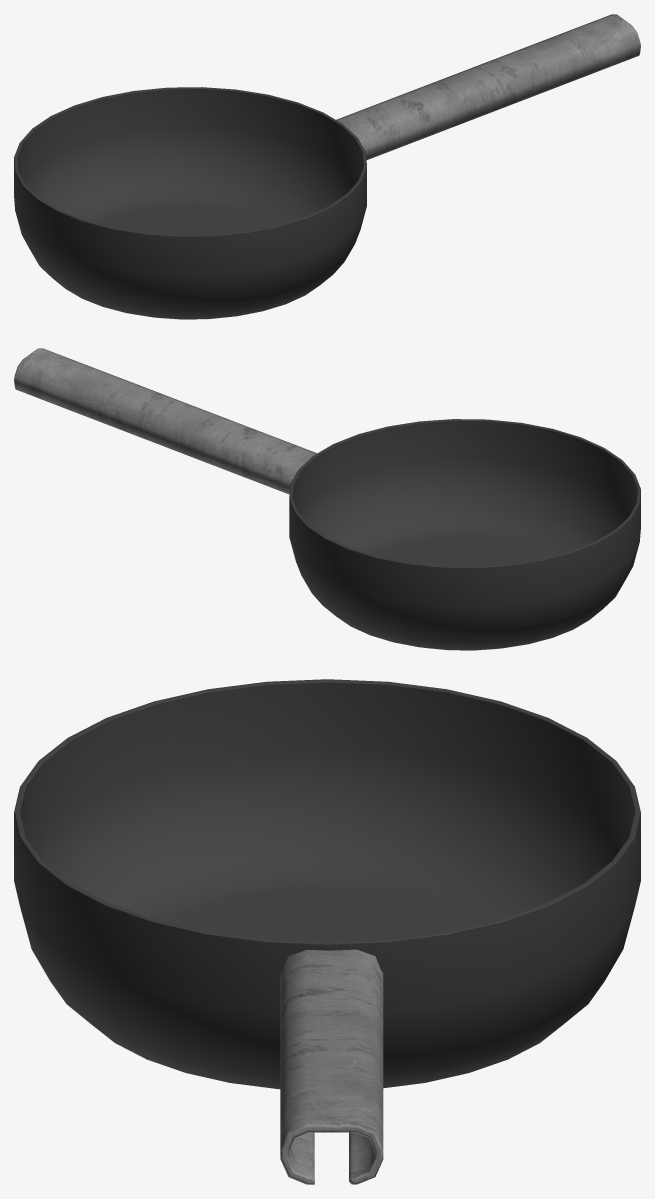
Rendered from FryPan_02 1.FBX.
3 renders of one model, top to bottom at view 1: azimuth 30°, elevation 25°; view 2: azimuth 150°, elevation 25°; view 3: azimuth 270°, elevation 25°, orthographic. The views are drawn at different scales.
Parts seen in each view (by area): view 1: FryPan_02; view 2: FryPan_02; view 3: FryPan_02.
Boxes of the visible parts, box(x1,y1,x2,y2) form: FryPan_02: box(14, 14, 640, 319); FryPan_02: box(14, 348, 640, 650); FryPan_02: box(14, 679, 640, 1184).
Size of the model in its own units: 41.15 by 9.34 by 21.28.
1 material, 1 textured.
